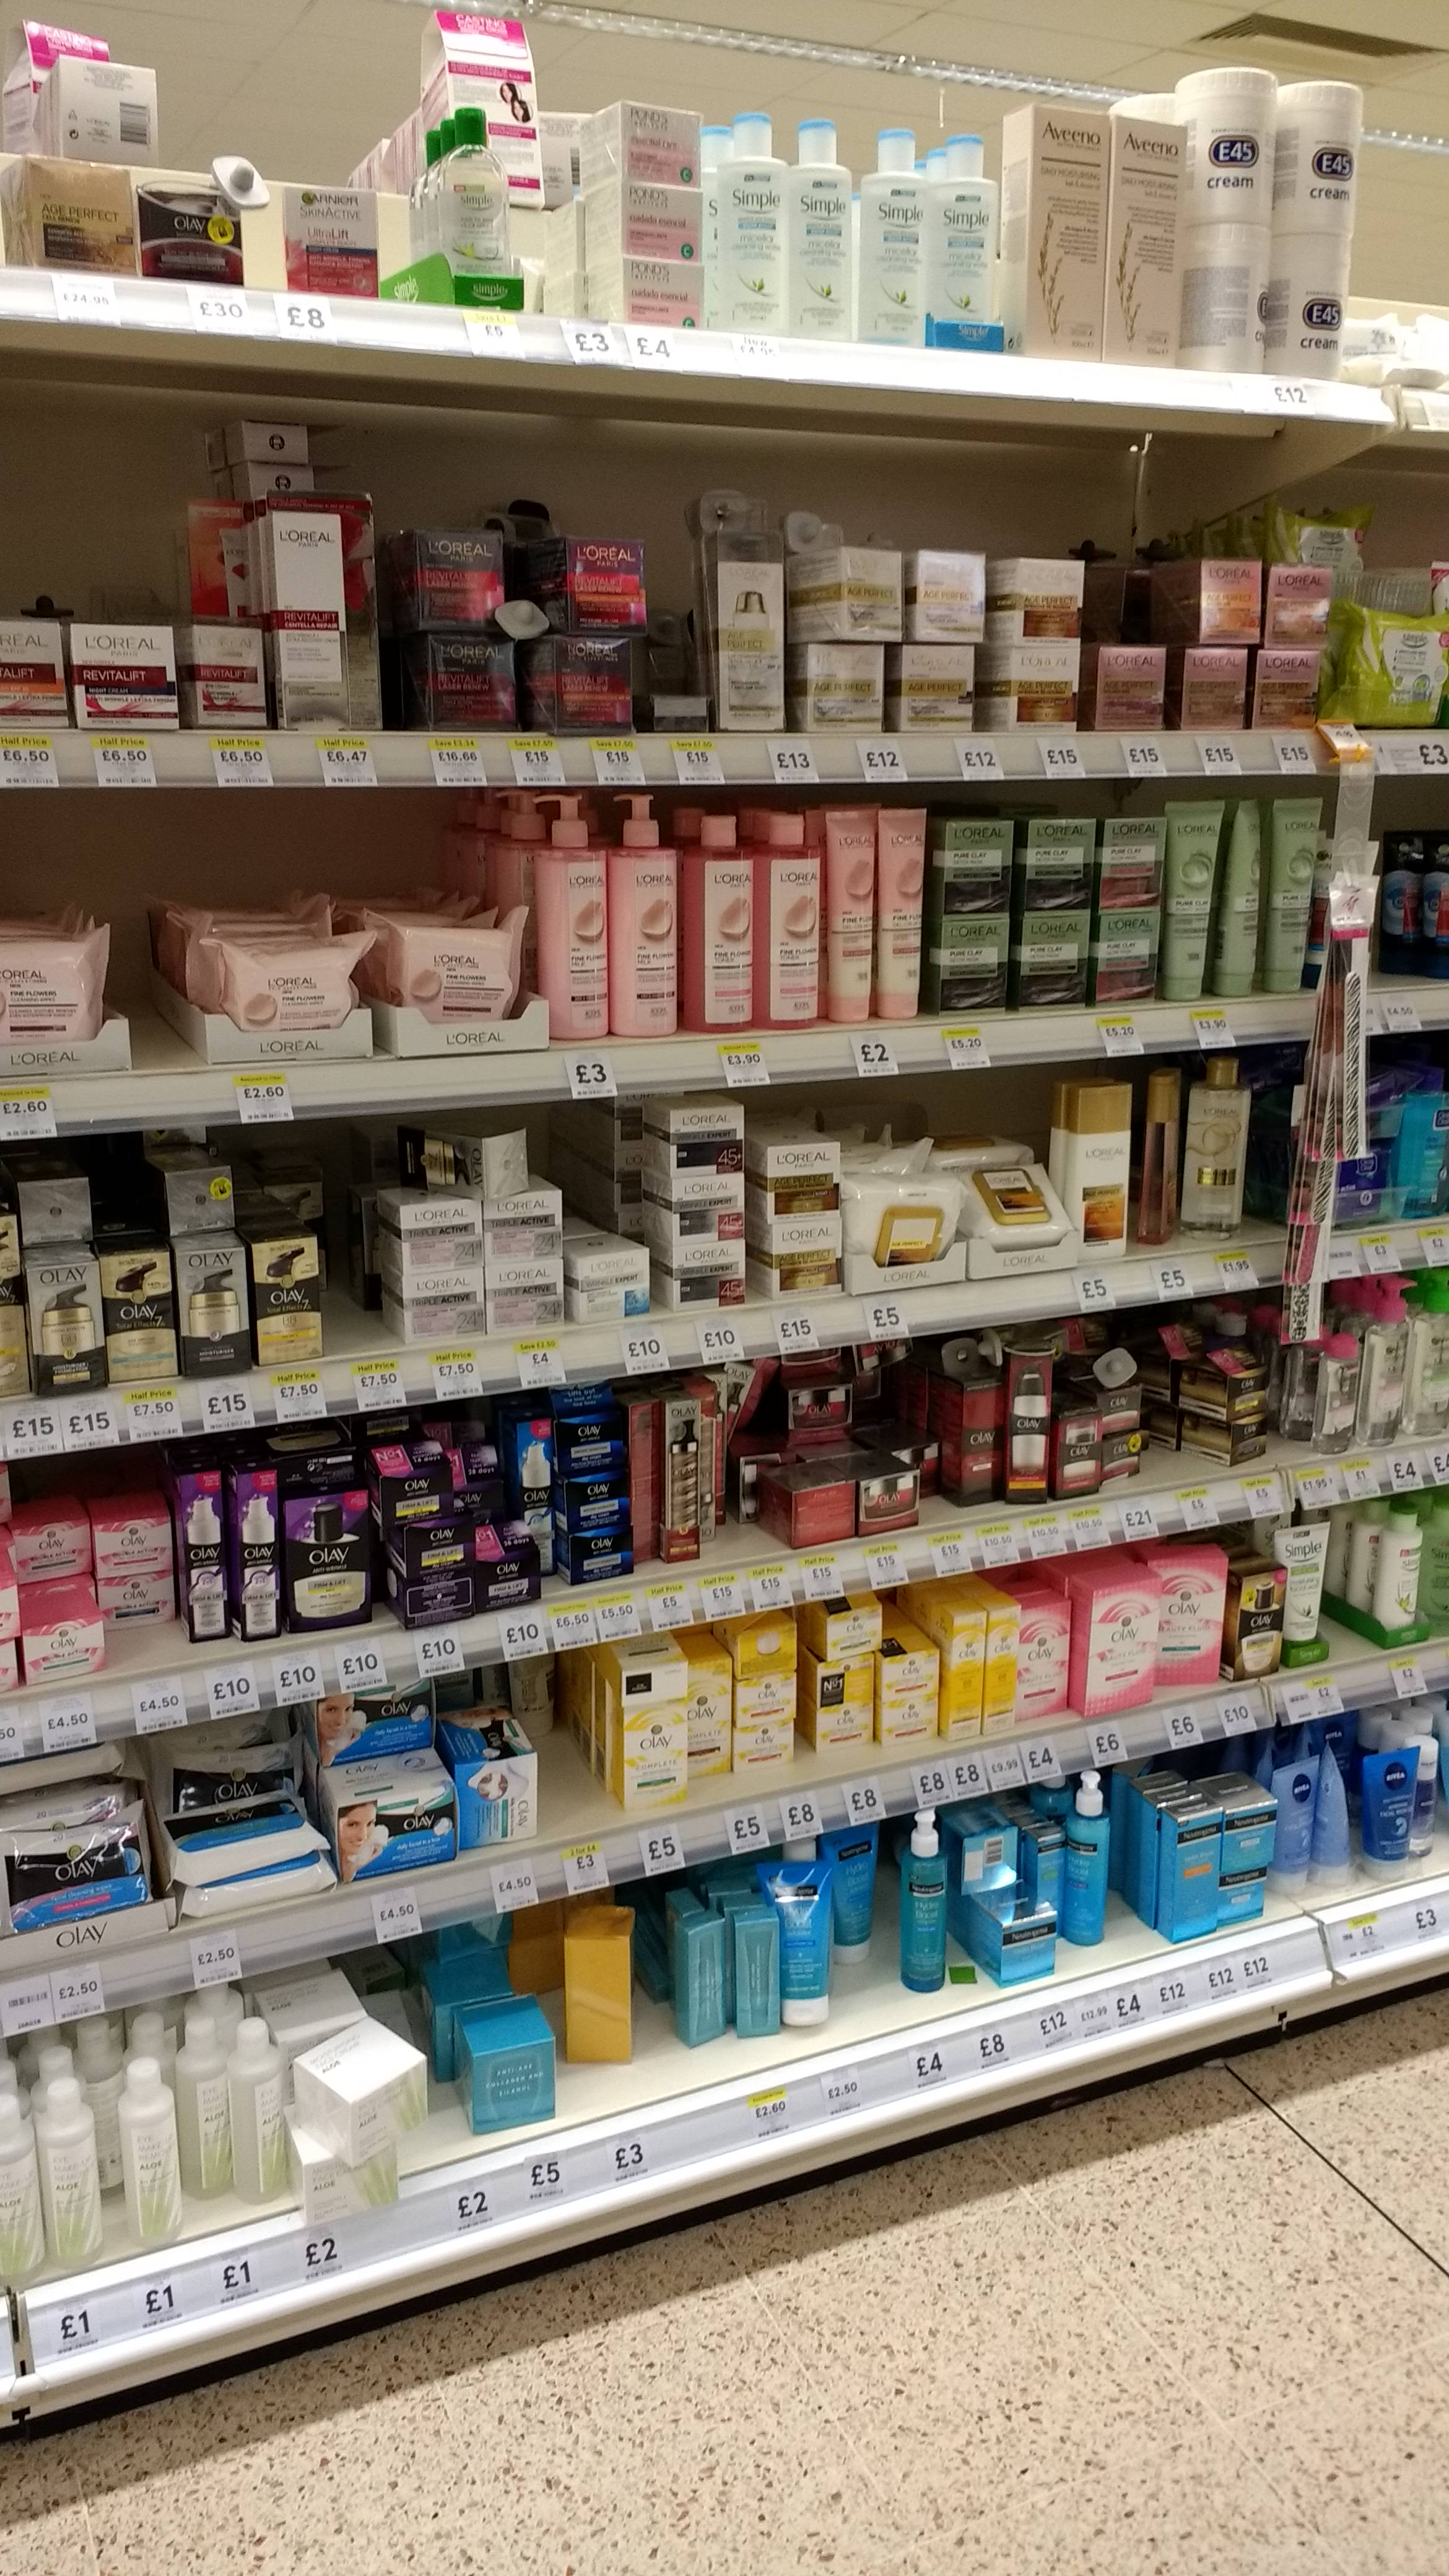Misplacement: (272, 1136, 400, 1364), (499, 1660, 621, 1842), (99, 1491, 180, 1683), (890, 1449, 959, 1530)
Out-of-stock: (1323, 1537, 1398, 1663)
